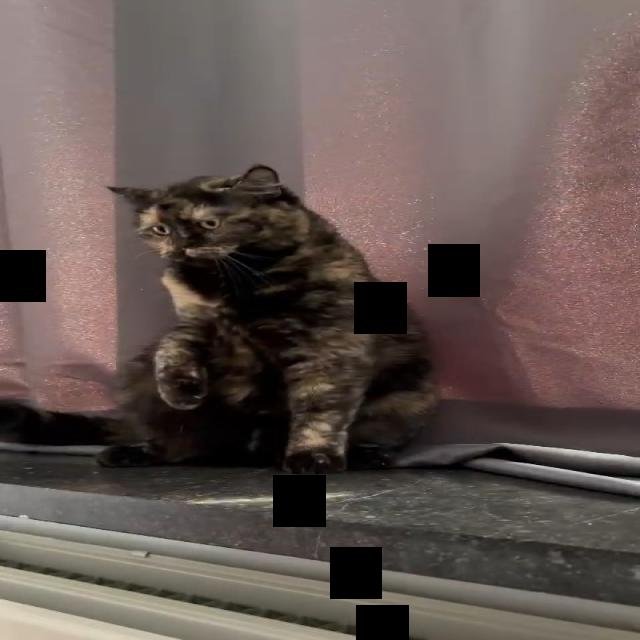authorized: (99, 163, 440, 475)
